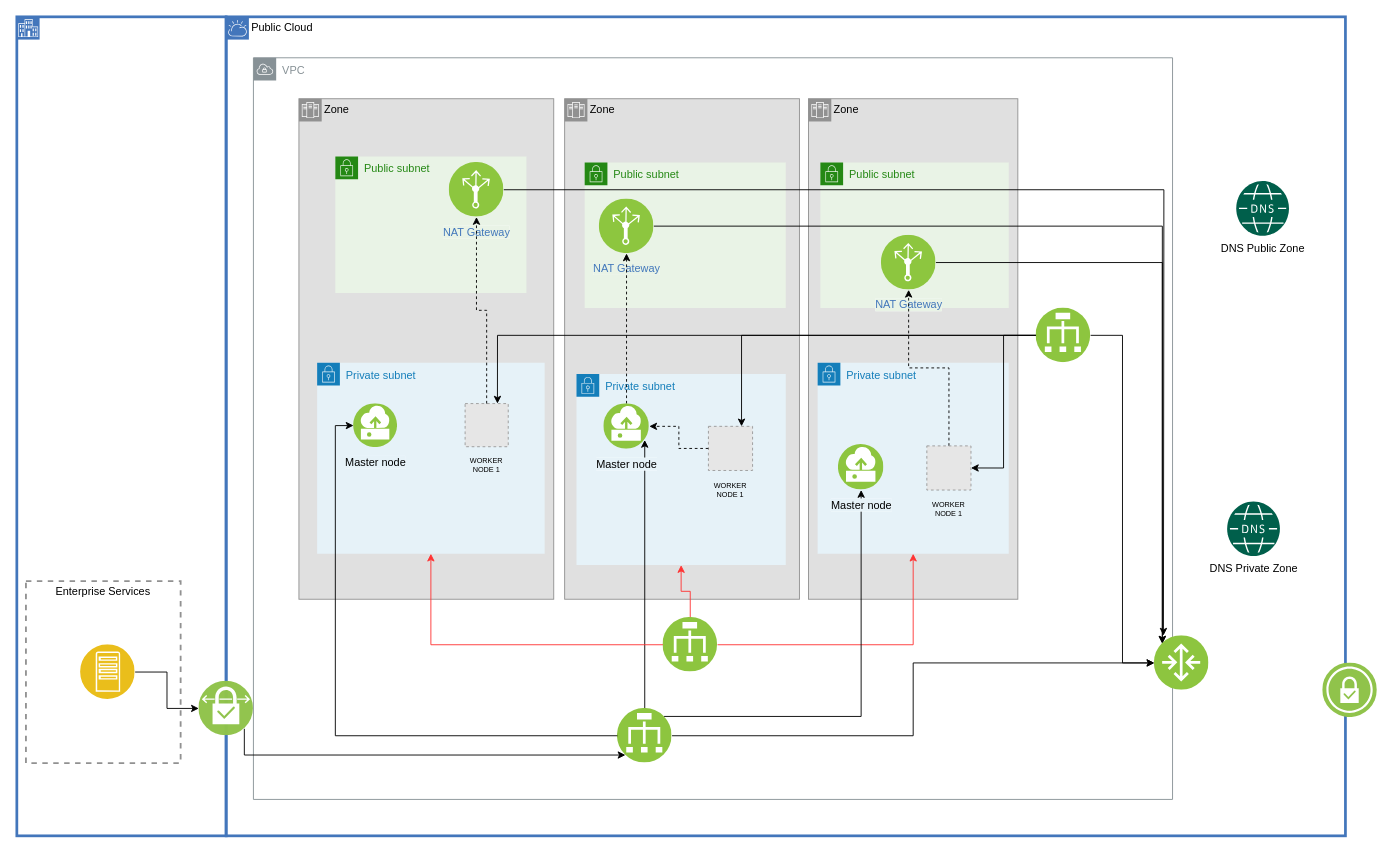
Image size: 1393x853. Some labels were removed from this diagram. Grey dashed boxes stand in for pictures. The box of each missing label's shape, as (x1, y1, x2, y2) in pixels:
API NLB: (617, 708, 672, 763)
Application ELB: (1036, 308, 1090, 362)
Control Plane NLB: (662, 617, 717, 672)
Enterprise Network: (15, 15, 227, 837)
Internet Gateway: (1154, 635, 1208, 690)
